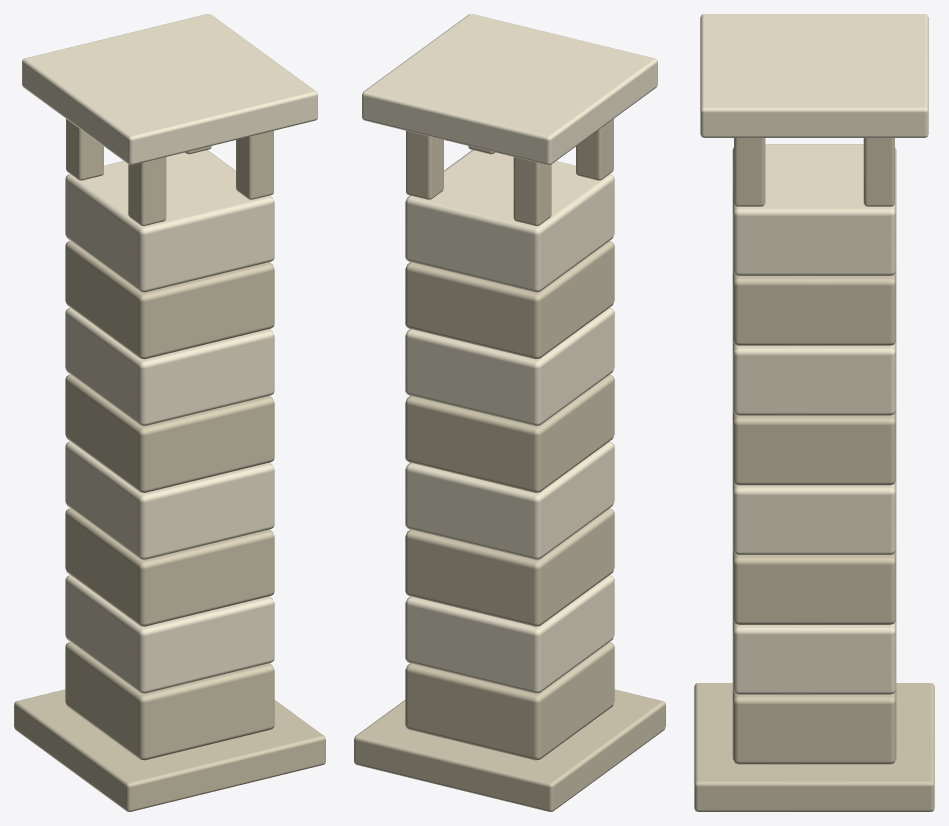
File: fantasy-bathhouse-and-thermal-sanctuary-fantasy-bathho-6cf85000__29451.glb
3 renders of one model, left to right at view 1: azimuth 30°, elevation 25°; view 2: azimuth 150°, elevation 25°; view 3: azimuth 270°, elevation 25°, orthographic. The views are drawn at different scales.
Visible parts, largest first — view 1: fantasy-bathhouse-and-thermal-sanctuary-chimney-stack; view 2: fantasy-bathhouse-and-thermal-sanctuary-chimney-stack; view 3: fantasy-bathhouse-and-thermal-sanctuary-chimney-stack.
Part boxes in pixels (<box>): fantasy-bathhouse-and-thermal-sanctuary-chimney-stack: <box>14,14,325,811</box>; fantasy-bathhouse-and-thermal-sanctuary-chimney-stack: <box>354,14,665,811</box>; fantasy-bathhouse-and-thermal-sanctuary-chimney-stack: <box>694,14,934,811</box>.
Bounding box in the file's own units: 0.9998 × 3.22 × 0.9998.
